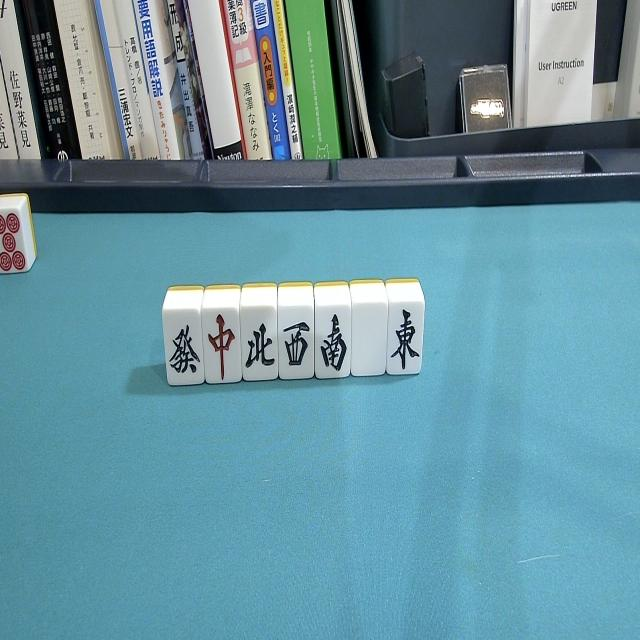chun: (200, 279, 243, 390)
haku: (348, 274, 390, 386)
hatsu: (162, 281, 206, 394)
nan: (308, 276, 355, 390)
pe-: (240, 278, 280, 388)
sya-: (273, 278, 318, 388)
ton: (381, 274, 427, 381)
